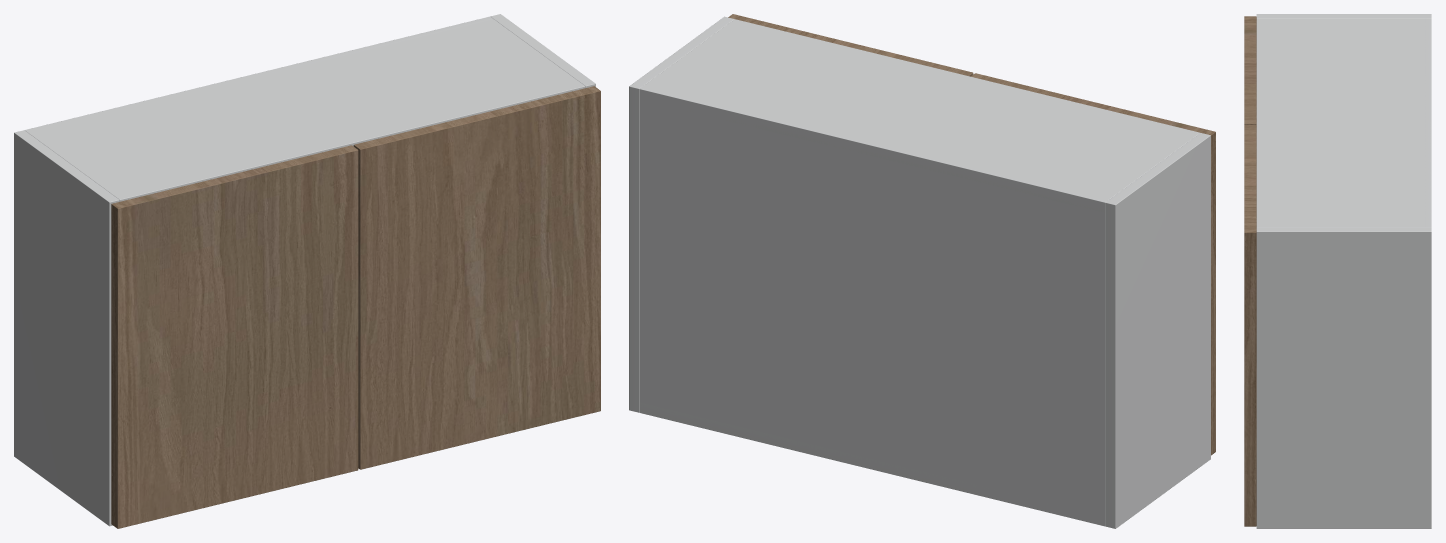
Rendered from oppein-ply-mnw-w3321.glb.
3 views of the same model, side by side, from view 1: azimuth 30°, elevation 25°; view 2: azimuth 150°, elevation 25°; view 3: azimuth 270°, elevation 25° (orthographic). The views are drawn at different scales.
Parts seen in each view (by area): view 1: Door, Door.001, Cabinet top, Cabinet side, Cabinet back, Cabinet side.001; view 2: Cabinet back, Cabinet top, Cabinet side, Cabinet side.001, Door, Cabinet bottom, Door.001; view 3: Cabinet side.001, Cabinet top, Door.001, Cabinet back, Door, Cabinet side.
Boxes of the visible parts, x1,y1,x2,y2 form: Door: (111, 145, 358, 528); Door.001: (353, 86, 600, 469); Cabinet top: (25, 16, 585, 201); Cabinet side: (14, 130, 119, 526); Cabinet back: (24, 16, 493, 132); Cabinet side.001: (490, 14, 595, 87); Cabinet back: (639, 86, 1108, 526); Cabinet top: (640, 19, 1199, 212); Cabinet side: (1105, 133, 1210, 528); Cabinet side.001: (629, 16, 734, 412); Door: (971, 73, 1215, 455); Cabinet bottom: (639, 402, 1105, 522); Door.001: (728, 14, 973, 76); Cabinet side.001: (1256, 227, 1431, 528); Cabinet top: (1256, 18, 1431, 227); Door.001: (1244, 125, 1256, 526); Cabinet back: (1424, 18, 1431, 227); Door: (1244, 16, 1256, 124); Cabinet side: (1256, 14, 1431, 18).
Size of the model in its own units: 0.8382 by 0.5334 by 0.3048.
Materials: 2 (1 with a texture image).
